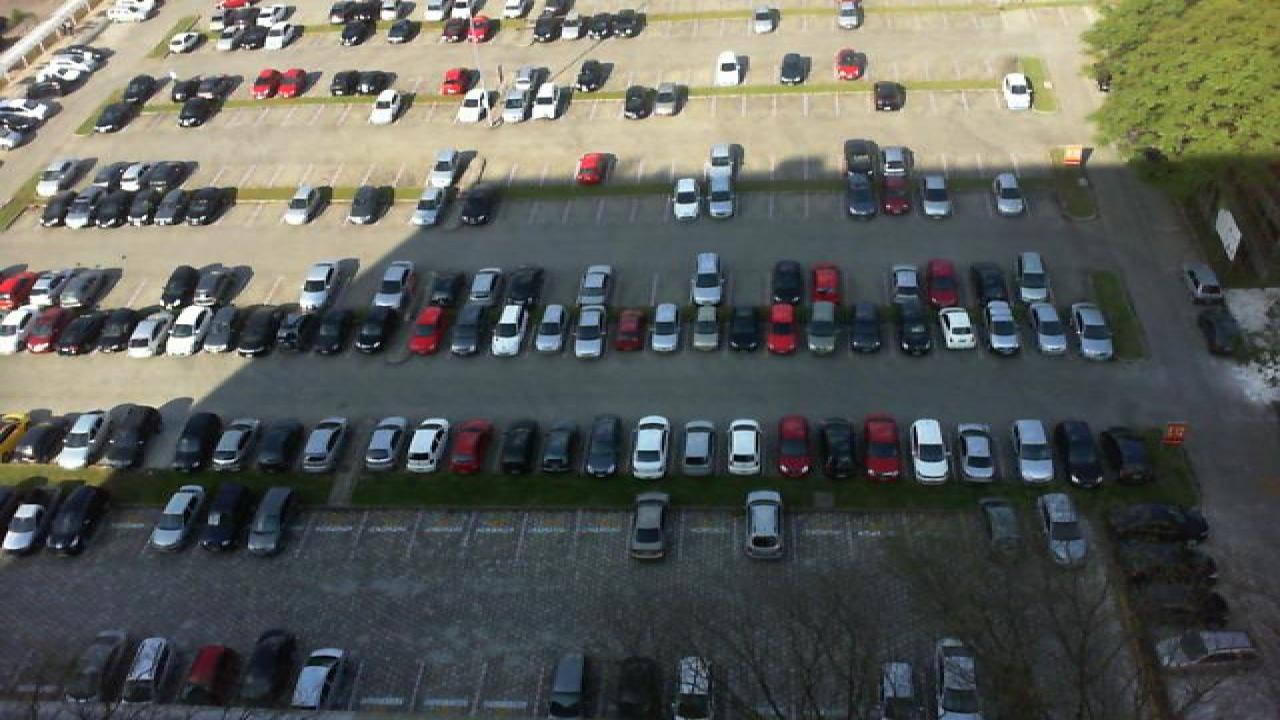Car: (40, 479, 106, 556), (64, 628, 130, 703), (240, 626, 296, 708), (932, 636, 986, 716), (176, 642, 240, 709), (128, 634, 182, 706), (198, 483, 252, 554), (244, 485, 296, 556), (1038, 491, 1088, 564), (290, 646, 346, 711), (0, 481, 50, 552), (976, 491, 1026, 562), (152, 484, 204, 550), (1058, 417, 1106, 488), (60, 406, 114, 468), (546, 651, 594, 720), (1004, 419, 1052, 487), (608, 655, 658, 720), (208, 414, 264, 472), (16, 408, 70, 468), (742, 489, 786, 562), (106, 410, 160, 469), (362, 415, 416, 473), (906, 416, 952, 484), (168, 412, 218, 472), (628, 490, 670, 560), (300, 415, 350, 473), (406, 416, 454, 475), (448, 417, 496, 476), (98, 302, 148, 358), (954, 420, 998, 483), (256, 417, 306, 472), (128, 302, 178, 356), (1194, 304, 1244, 358), (674, 656, 716, 720), (1108, 424, 1152, 485), (818, 417, 860, 480), (862, 417, 904, 480), (60, 305, 110, 357), (1070, 303, 1116, 359), (494, 418, 538, 476), (538, 416, 580, 476), (582, 414, 622, 477), (630, 415, 670, 478), (680, 418, 722, 478), (774, 414, 814, 477), (166, 302, 210, 356), (982, 300, 1024, 356), (1022, 302, 1064, 358), (726, 419, 766, 477), (24, 301, 66, 356), (208, 302, 250, 356), (246, 302, 288, 356), (408, 302, 450, 356), (936, 305, 978, 358), (318, 302, 358, 356), (192, 262, 238, 307), (490, 304, 528, 358), (846, 302, 884, 356), (808, 302, 844, 358), (878, 675, 922, 720), (286, 302, 324, 354), (356, 304, 394, 356), (450, 304, 488, 356), (890, 304, 928, 356), (650, 302, 686, 356), (688, 302, 724, 356), (726, 302, 762, 356), (1014, 252, 1052, 302), (0, 263, 44, 306), (1180, 262, 1226, 303), (374, 260, 414, 307), (532, 304, 568, 356), (924, 258, 962, 307), (158, 262, 200, 306), (504, 264, 544, 310), (766, 302, 800, 356), (38, 187, 82, 228), (882, 261, 922, 306), (970, 261, 1008, 308), (690, 252, 724, 304), (0, 412, 32, 467), (28, 266, 72, 306), (608, 306, 644, 354), (64, 267, 108, 306), (570, 305, 604, 355), (992, 171, 1028, 218), (282, 183, 322, 225), (576, 264, 614, 308), (768, 258, 804, 304), (178, 187, 220, 226), (0, 303, 34, 351), (74, 187, 114, 227), (144, 186, 184, 226), (410, 185, 450, 225), (54, 159, 96, 197), (470, 266, 506, 310), (920, 172, 954, 218), (808, 261, 844, 304), (108, 186, 146, 226), (842, 138, 878, 180), (298, 263, 332, 307), (436, 266, 472, 307), (354, 185, 390, 226), (462, 185, 498, 226), (164, 88, 204, 124), (846, 174, 880, 216), (704, 176, 736, 220), (880, 174, 912, 218), (426, 148, 462, 187), (708, 142, 744, 181), (672, 176, 704, 219), (102, 161, 144, 193), (74, 101, 112, 135), (502, 86, 536, 124), (714, 50, 748, 88), (116, 74, 156, 106), (880, 145, 916, 180), (578, 58, 614, 93), (436, 87, 470, 124), (1000, 72, 1034, 109), (136, 161, 176, 192), (540, 84, 572, 122), (366, 90, 400, 125), (248, 66, 282, 100), (576, 152, 612, 184), (622, 84, 654, 120), (870, 79, 906, 111), (654, 81, 686, 116), (202, 73, 242, 101), (834, 47, 866, 82), (164, 30, 206, 56), (330, 66, 364, 98), (778, 53, 810, 87), (276, 69, 312, 99), (168, 74, 206, 102), (442, 65, 474, 97), (466, 12, 498, 44), (524, 64, 556, 95), (750, 4, 782, 35), (212, 26, 250, 52), (338, 18, 372, 47), (248, 23, 284, 50), (362, 70, 396, 98), (434, 13, 464, 44), (834, 0, 864, 30), (618, 9, 648, 38), (534, 10, 562, 40), (562, 9, 590, 38), (590, 9, 618, 38), (388, 16, 418, 42)
